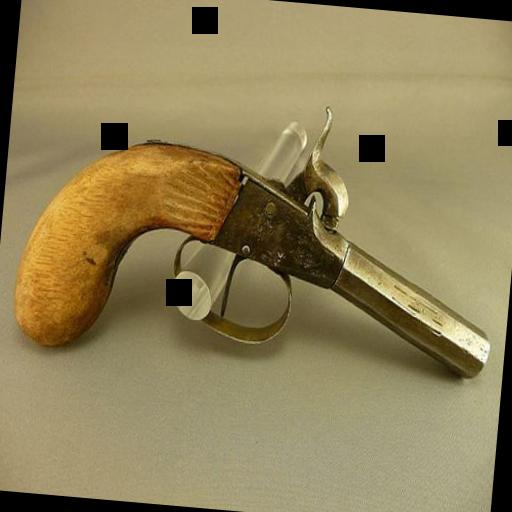Handgun: (8, 75, 512, 394)
